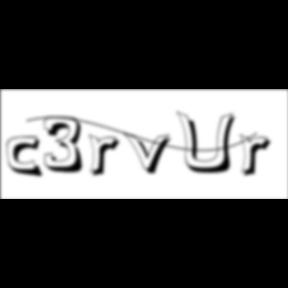3: (44, 116, 90, 176)
U: (176, 110, 242, 176)
c: (7, 136, 47, 180)
r: (88, 134, 126, 180), (240, 134, 278, 180)
v: (124, 131, 178, 177)
